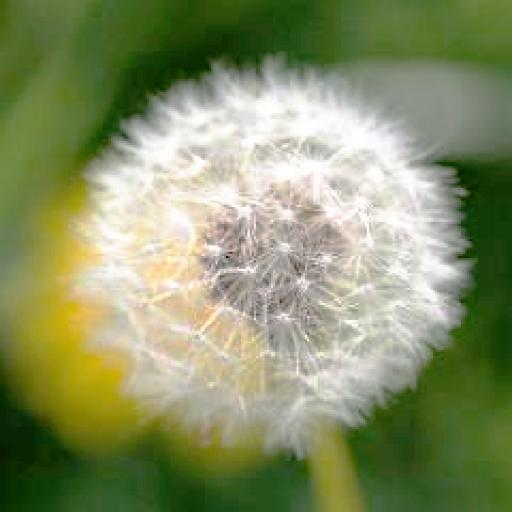dandelion: (81, 53, 476, 446)
